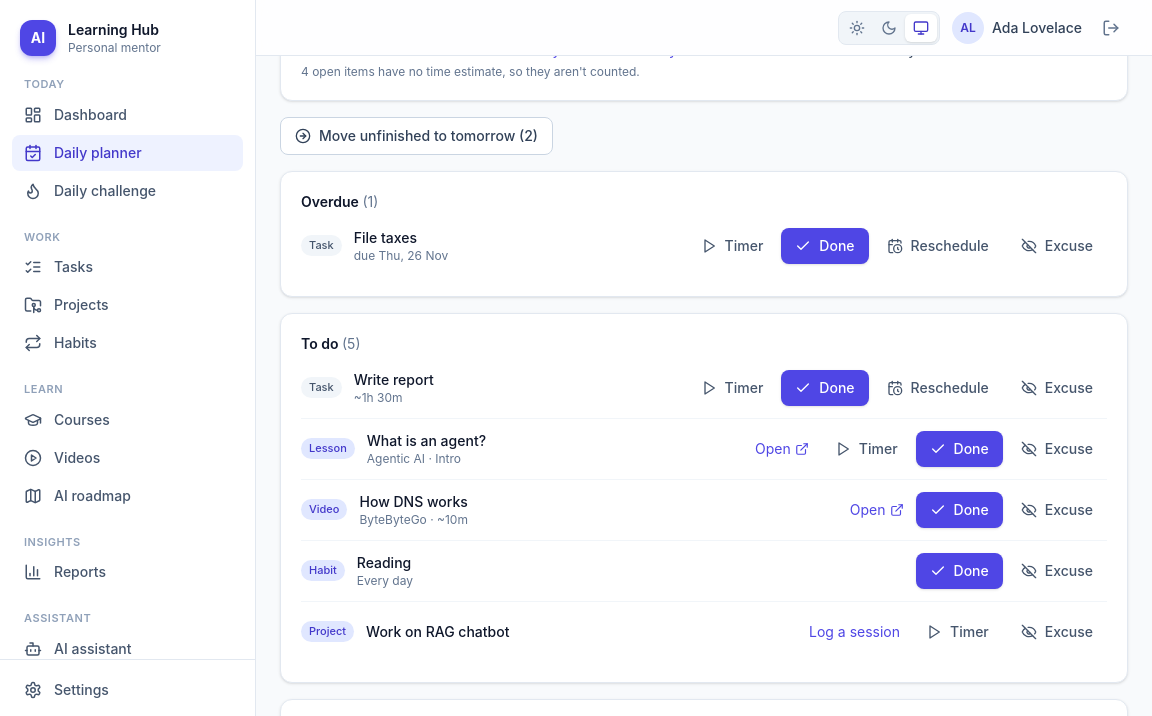
Test: daily planner › completing an activity moves it to Completed and updates progress
(page scrolled)
Click the button with aria-label "Complete Write report" at (825, 388), box [781,370,869,406]
(page scrolled)
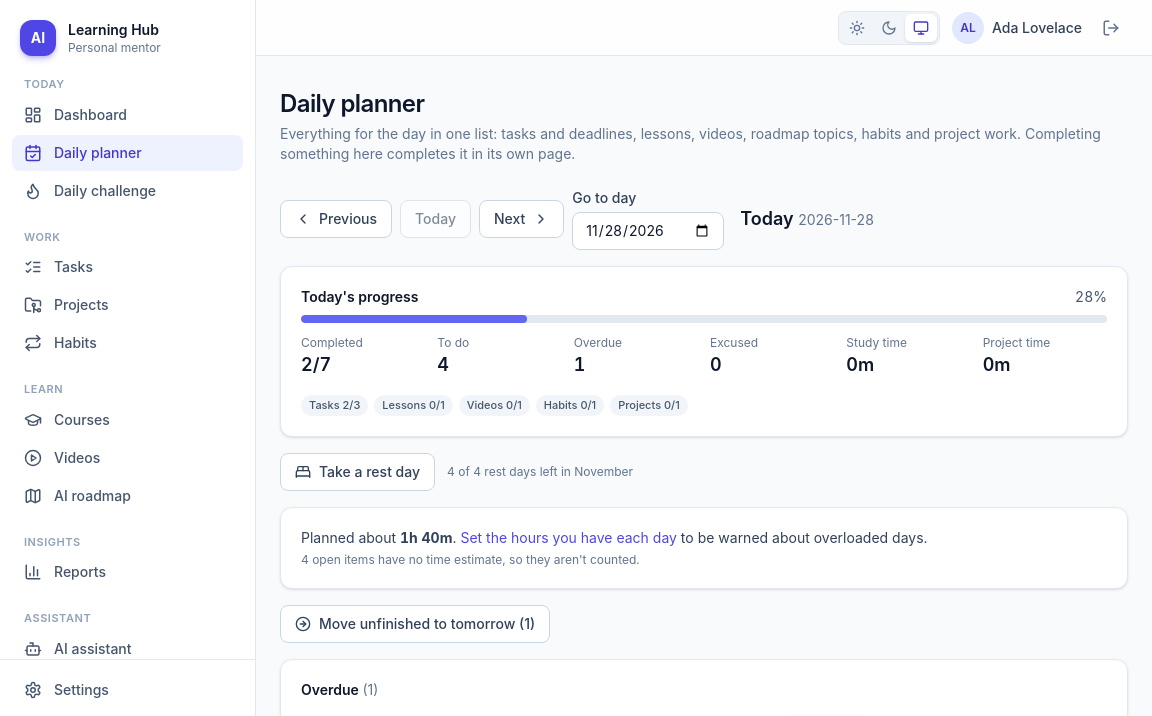
Check: the text "2/7" is shown, box [301,354,331,375]
